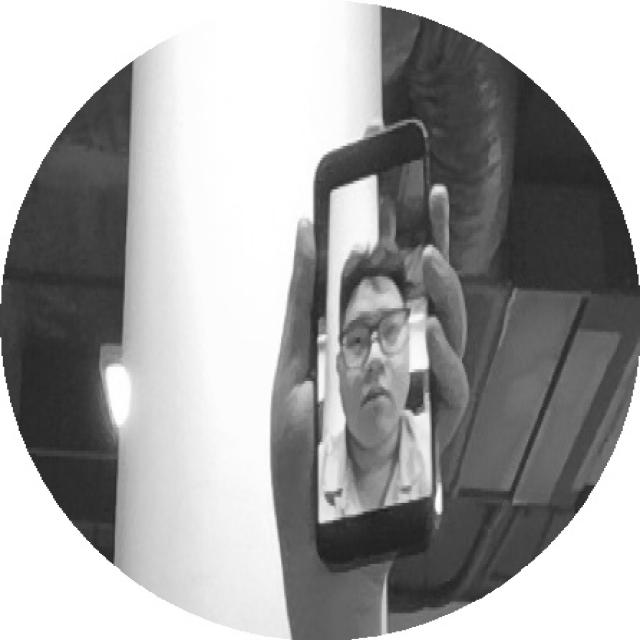fake: (277, 100, 493, 590), (294, 107, 483, 603)
